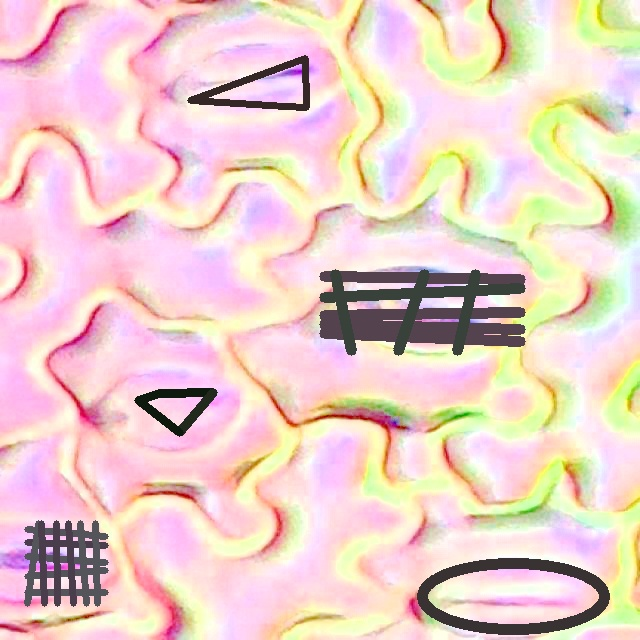close: (416, 559, 610, 634), (134, 389, 217, 436)
open: (320, 269, 525, 355), (24, 520, 108, 606), (188, 55, 308, 109)
